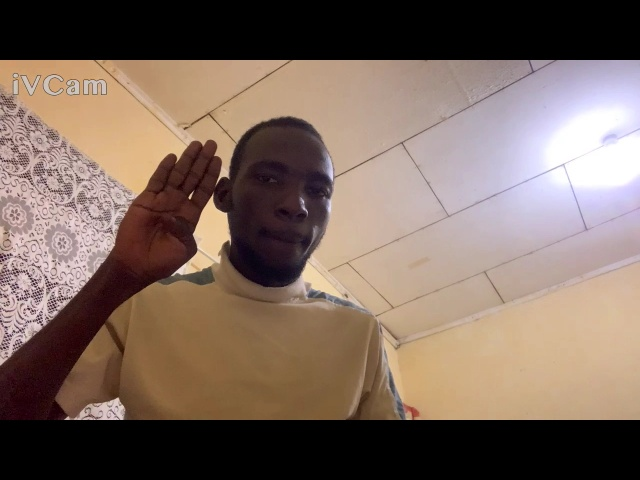s'il te plait: (110, 133, 238, 291)
